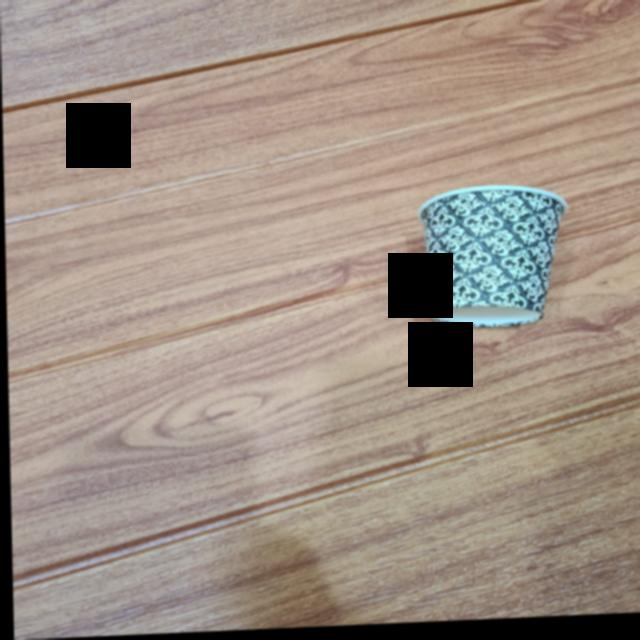cups: (399, 186, 572, 340)
